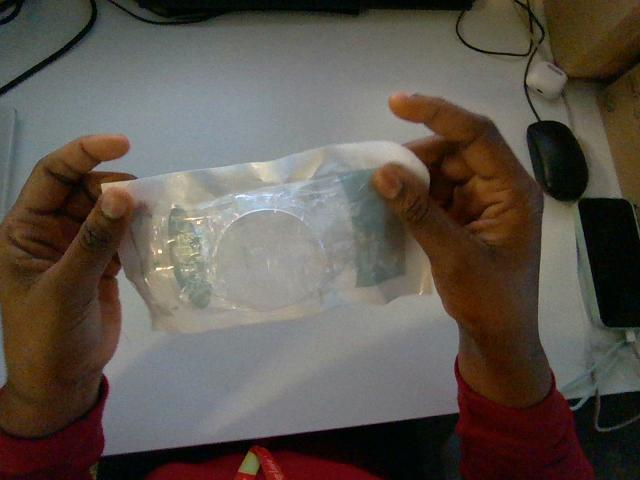gallipot: (103, 142, 429, 331)
